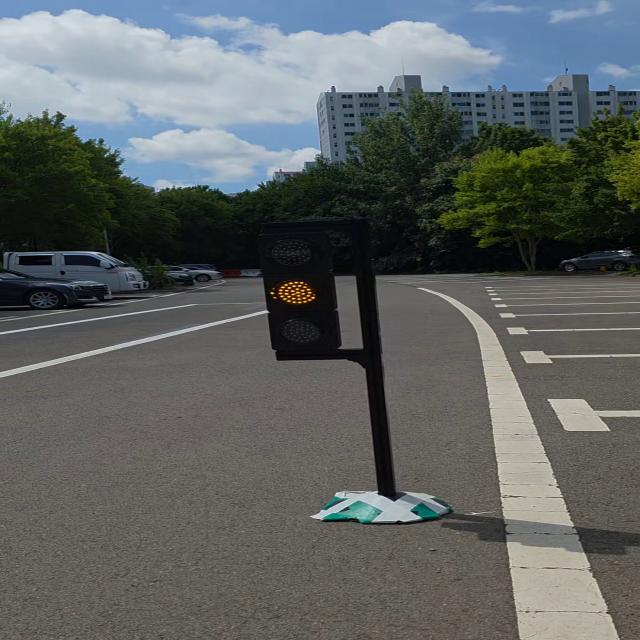yellow: (253, 220, 341, 364)
